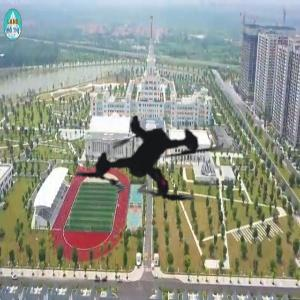drone: (45, 59, 253, 267)
